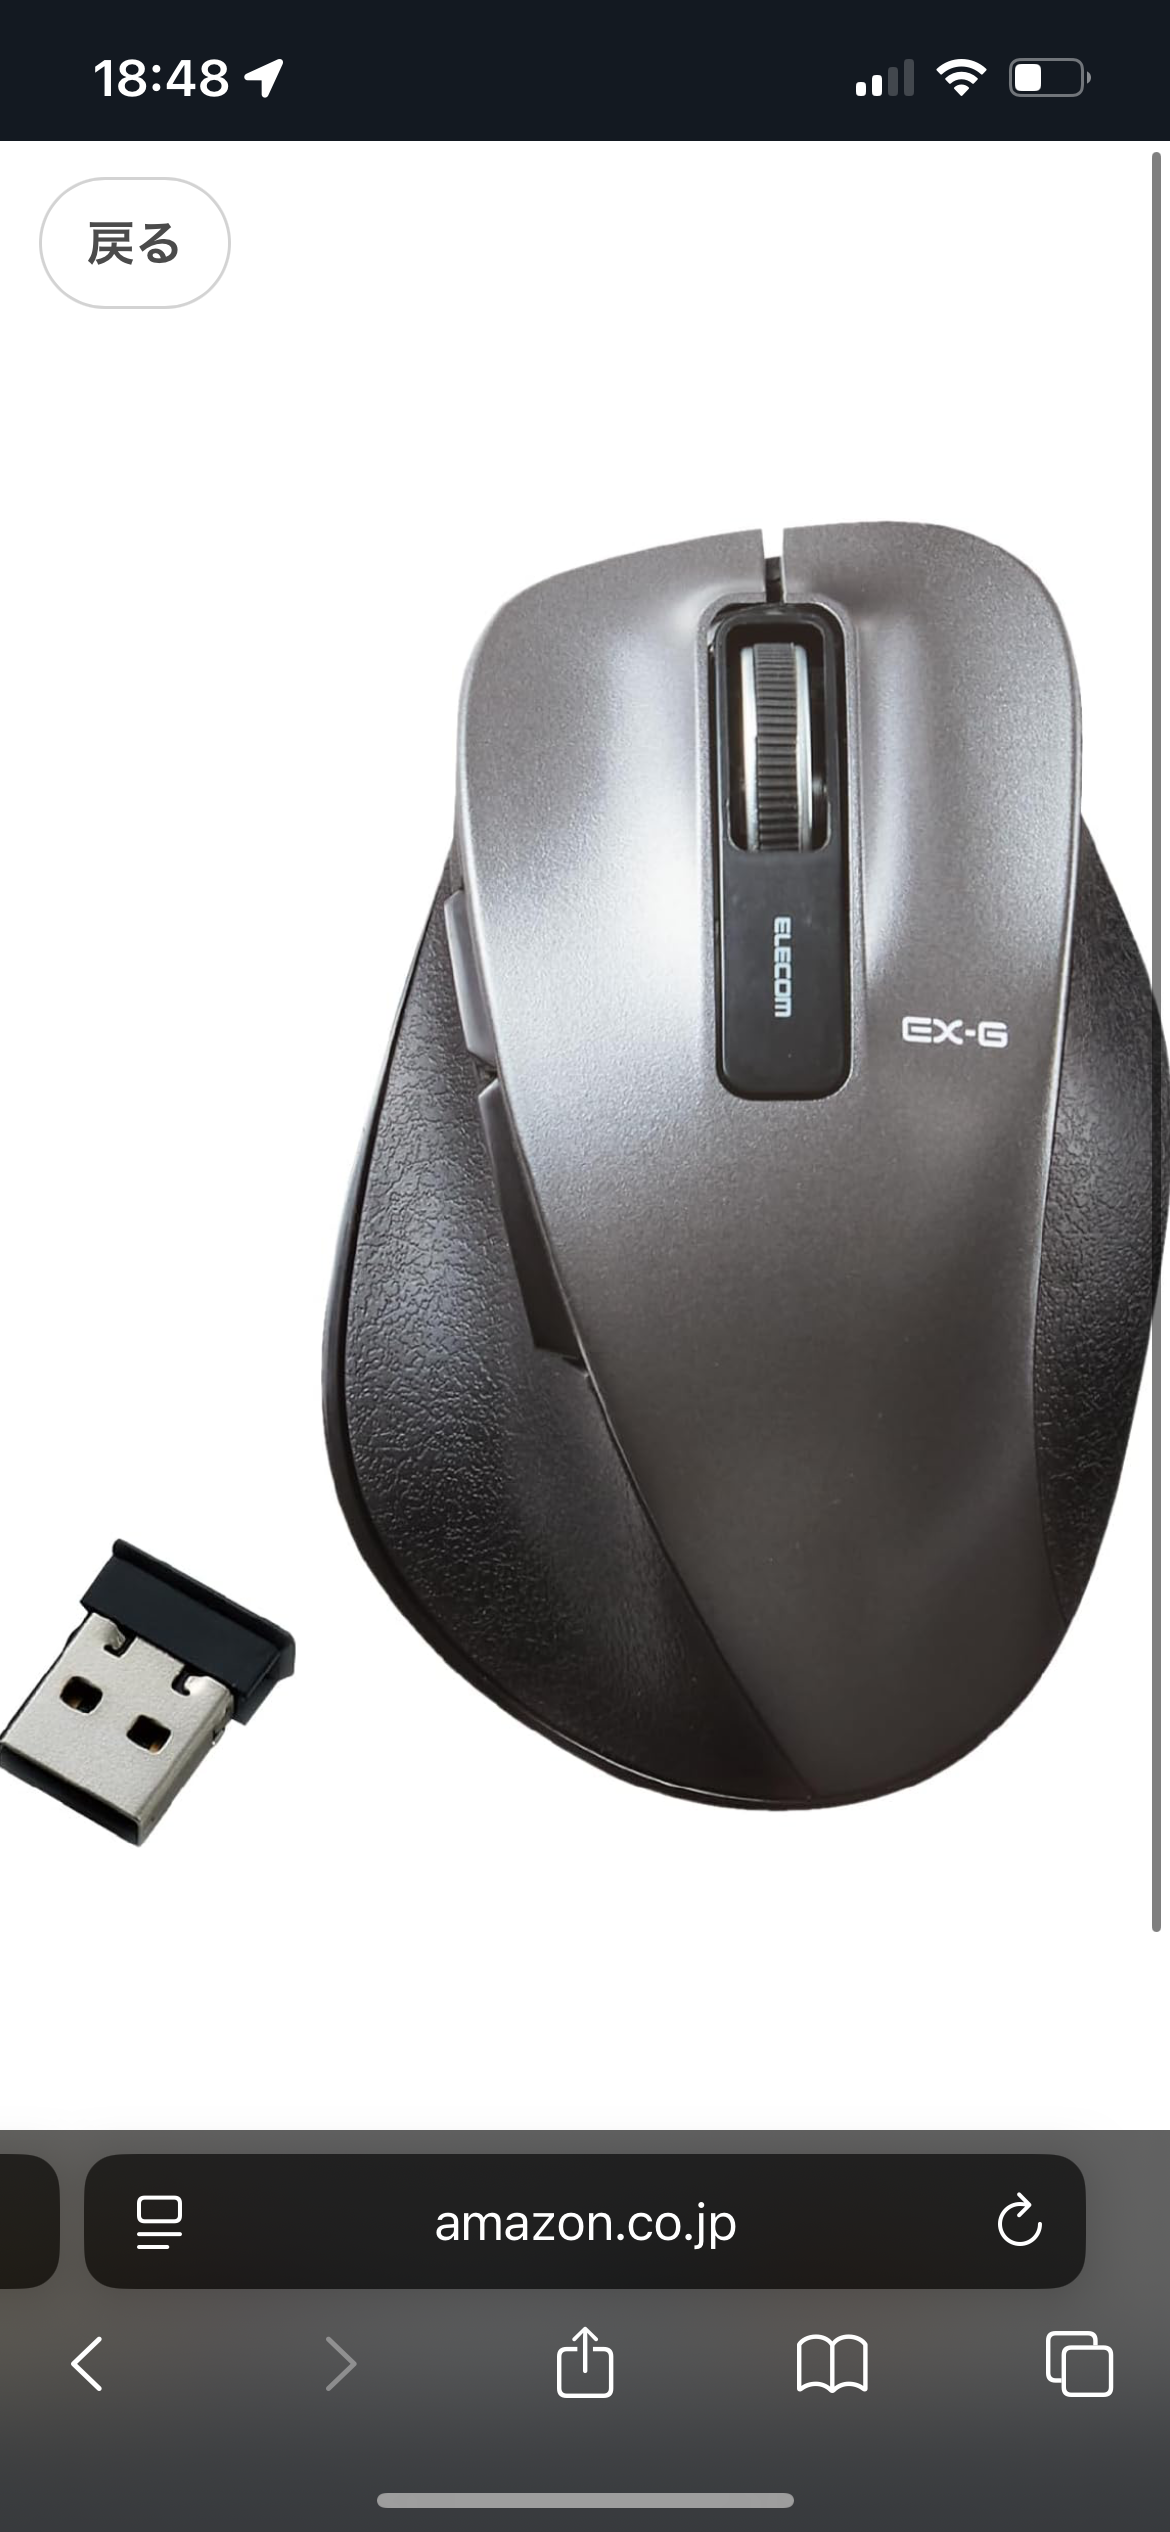mouse: (542, 481, 678, 1781)
